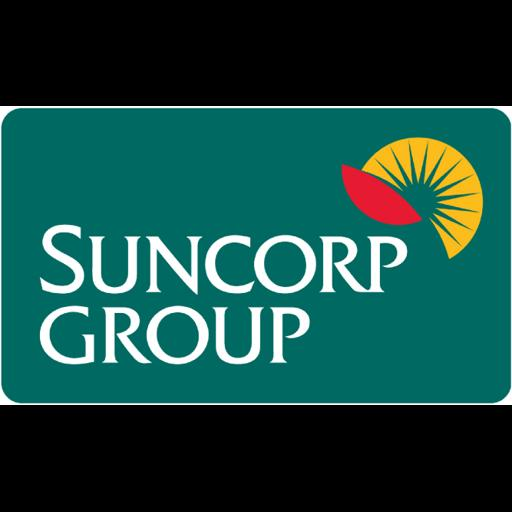Suncorp Group: (0, 106, 512, 405)
